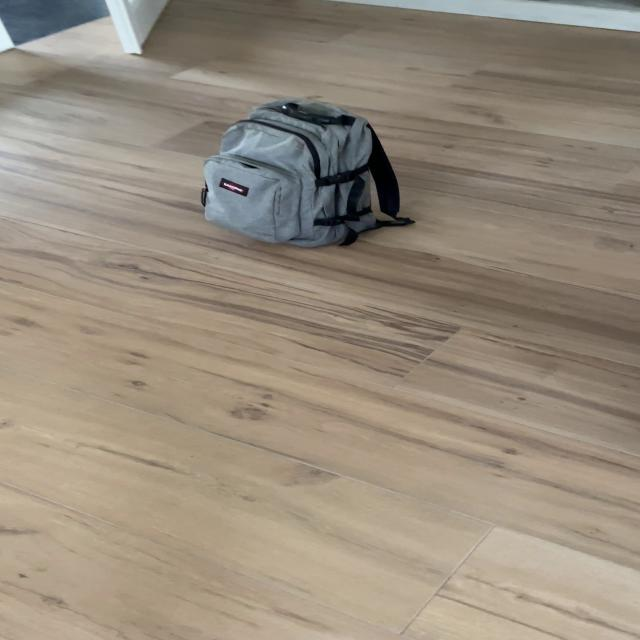backpack: (188, 93, 409, 252)
